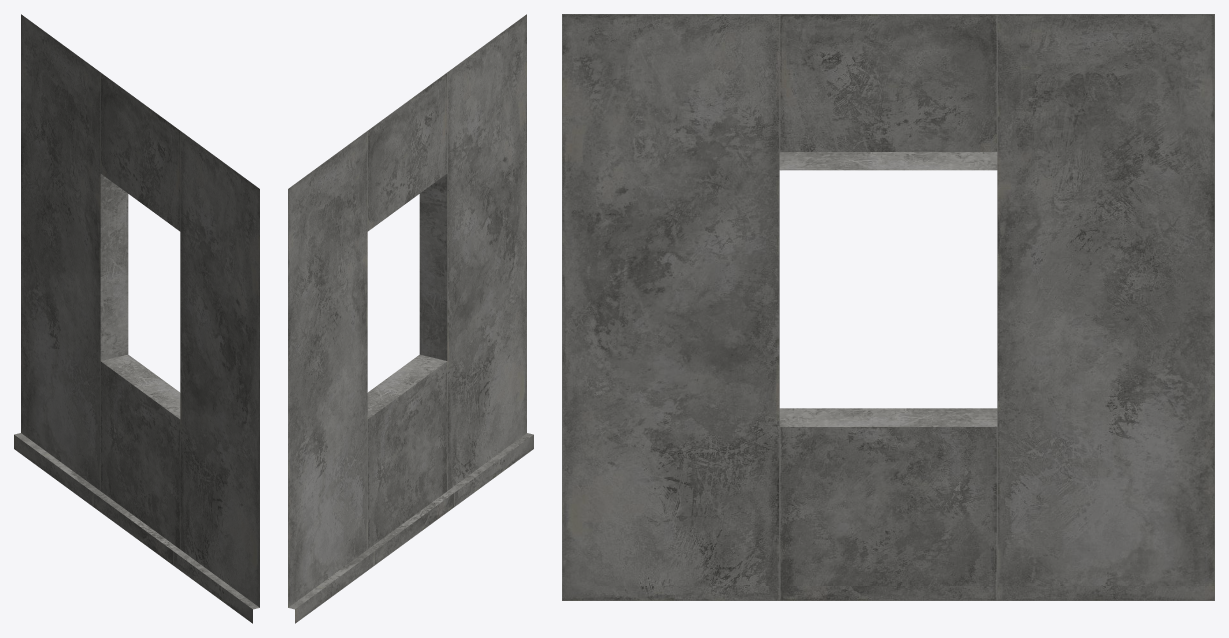
Rendered from walls_with.fbx.
3 renders of one model, left to right at view 1: azimuth 30°, elevation 25°; view 2: azimuth 150°, elevation 25°; view 3: azimuth 270°, elevation 25°, orthographic. The views are drawn at different scales.
Parts seen in each view (by area): view 1: Wall_with_window001, Wall_with_door; view 2: Wall_with_window001, Wall_with_door; view 3: Wall_with_window001, Wall_with_door.
Part boxes in pixels (x1,y1,x2,y2): Wall_with_window001: (14,14,259,623); Wall_with_door: (14,15,259,623); Wall_with_window001: (288,14,533,623); Wall_with_door: (288,16,533,622); Wall_with_window001: (562,14,1214,600); Wall_with_door: (562,14,1214,600).
Size of the model in its own units: 9.84 by 118 by 118.
Materials: 1 (1 with a texture image).
